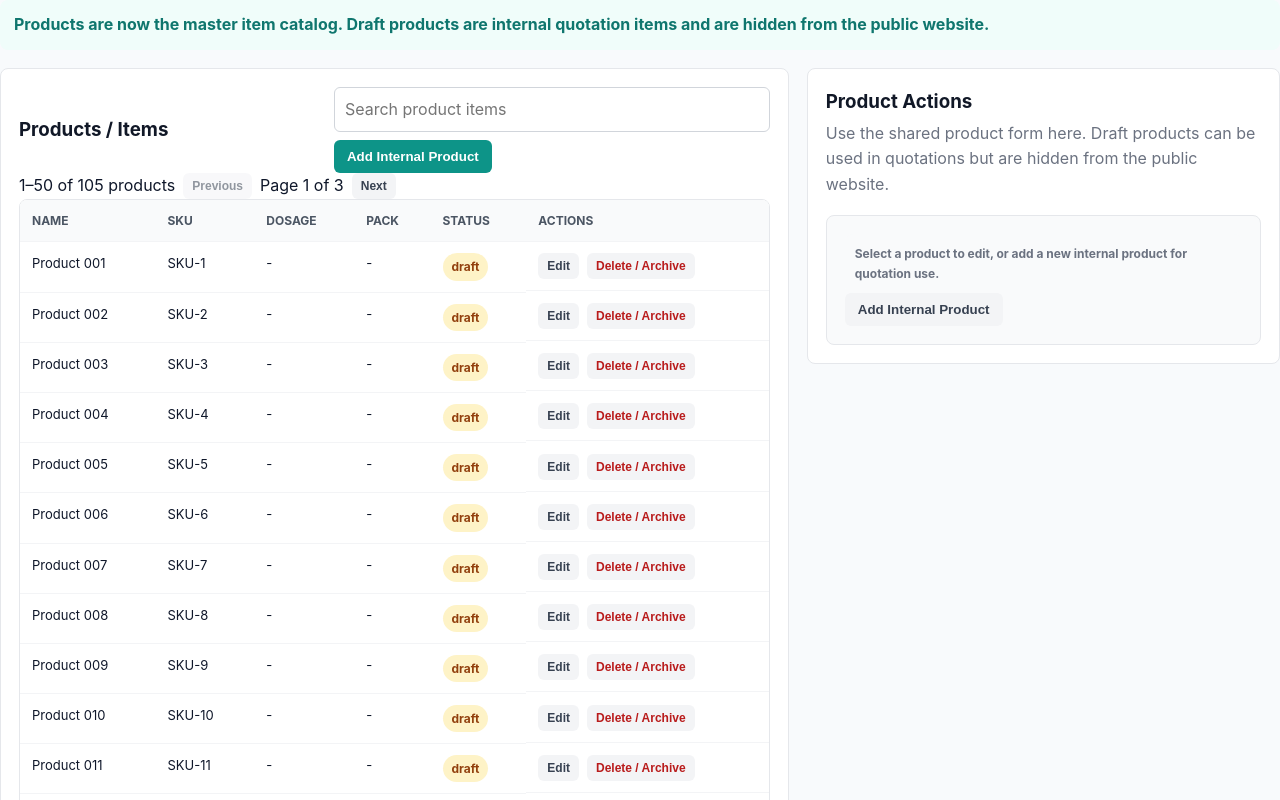
Scenario: search includes off-page products and resets navigation without losing the catalogue
The image size is (1280, 800).
Expected: the text "1–50 of 105 products" is shown, [19,173,175,199]
Step 1. Click the button "Next" → (374, 186), box [352,173,396,199]
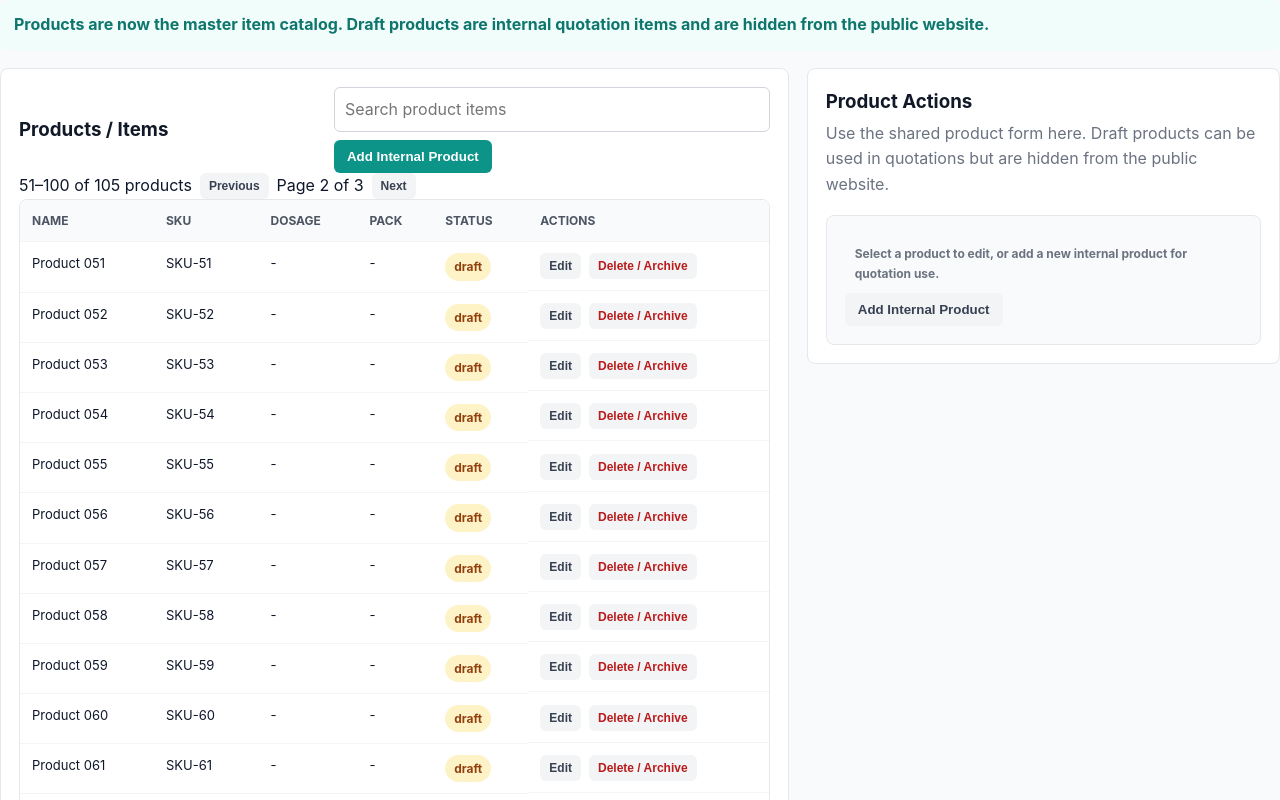
Step 2. Type " sku-105 " into the field labelled "Search product items" → (552, 109), box [334,87,770,132]
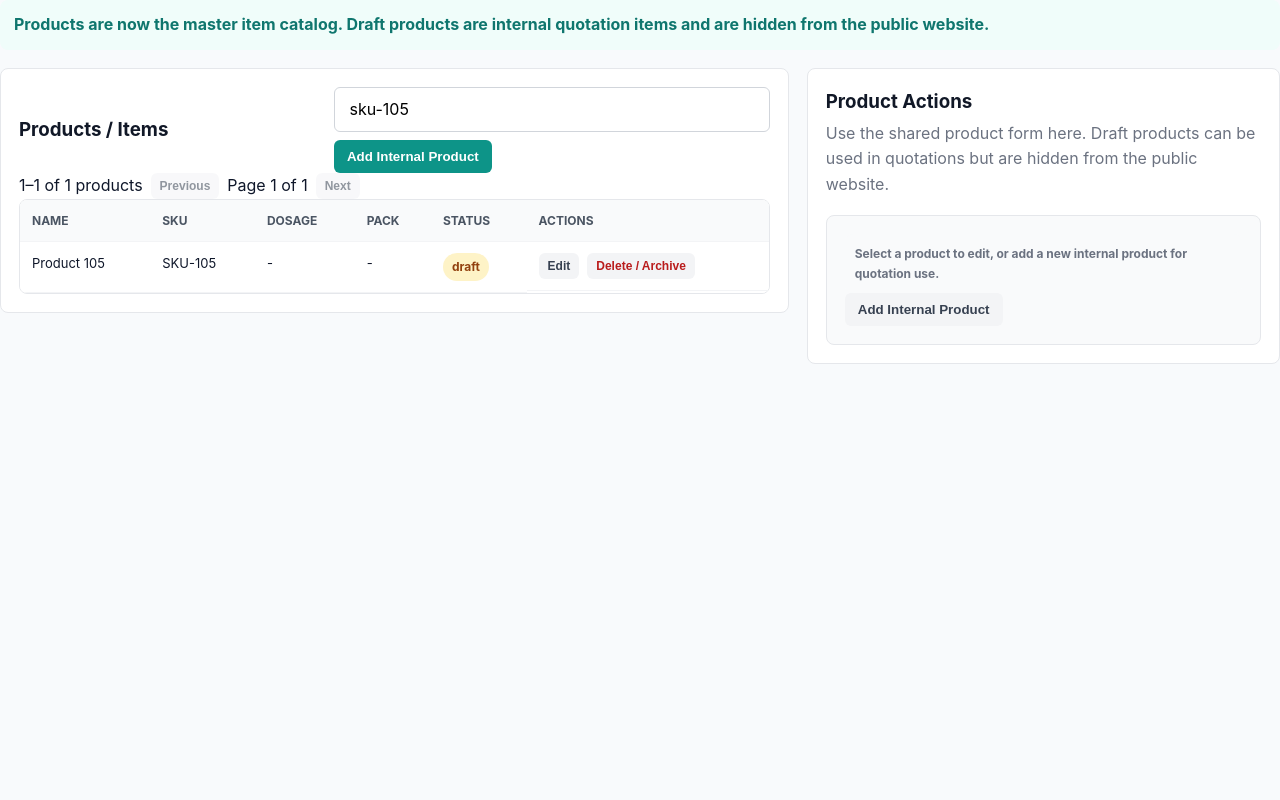
Expected: the text "Product 105" is shown, [20,242,150,292]
Expected: the text "1–1 of 1 products" is shown, [19,173,143,199]
Expected: the button "Previous" is disabled, [151,173,219,199]
Step 3. Replace the text in the field named "Search product items" with "no matching product" → (552, 109), box [334,87,770,132]
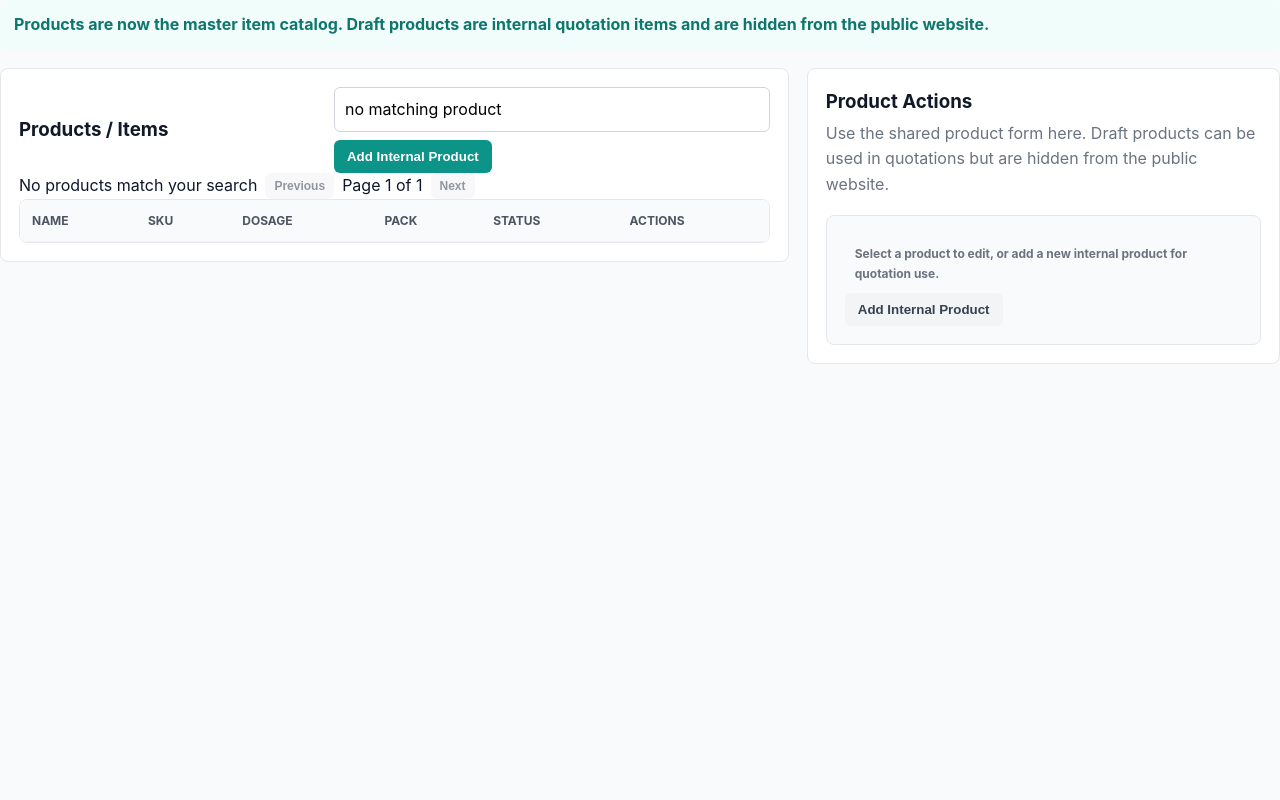
Expected: the text "No products match your search" is shown, [19,173,257,199]
Expected: the number of rows is 1, [20,200,769,242]
Step 4. Clear the field named "Search product items" → (552, 109), box [334,87,770,132]
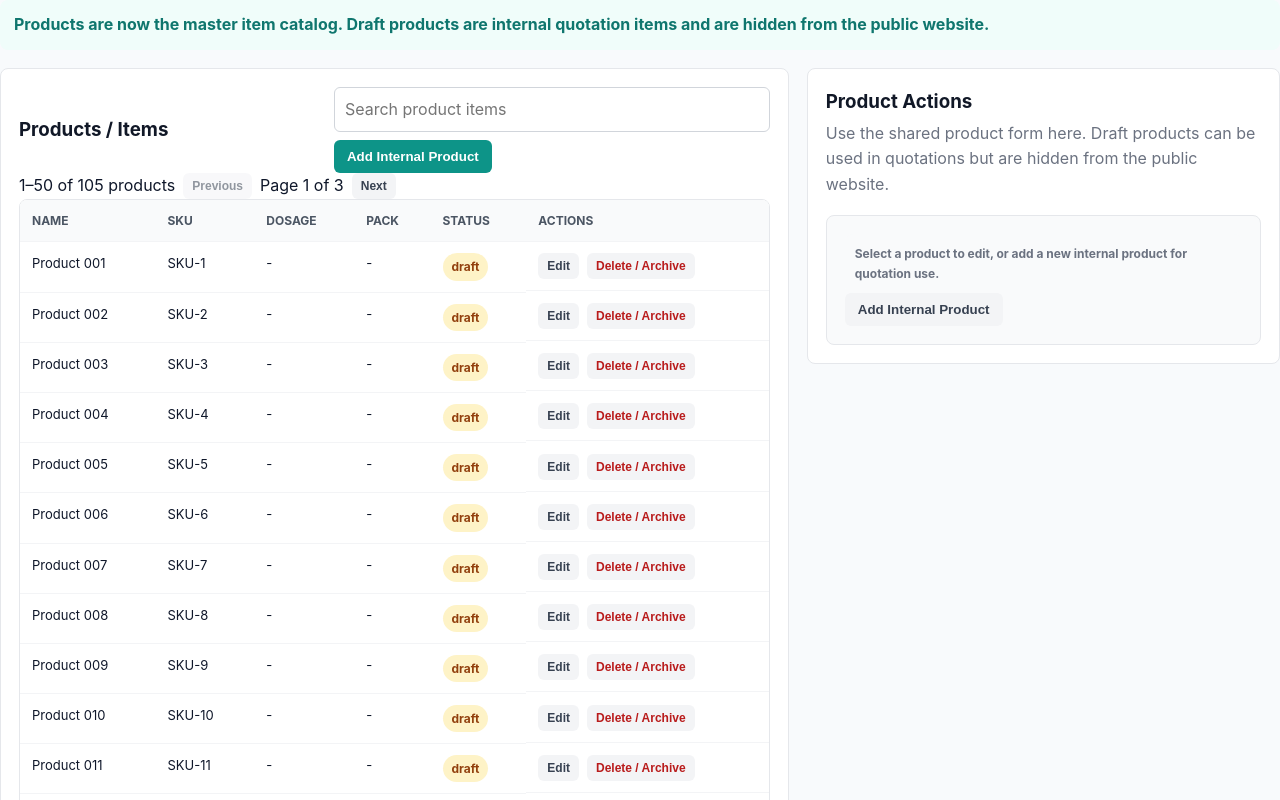
Expected: the text "1–50 of 105 products" is shown, [19,173,175,199]
